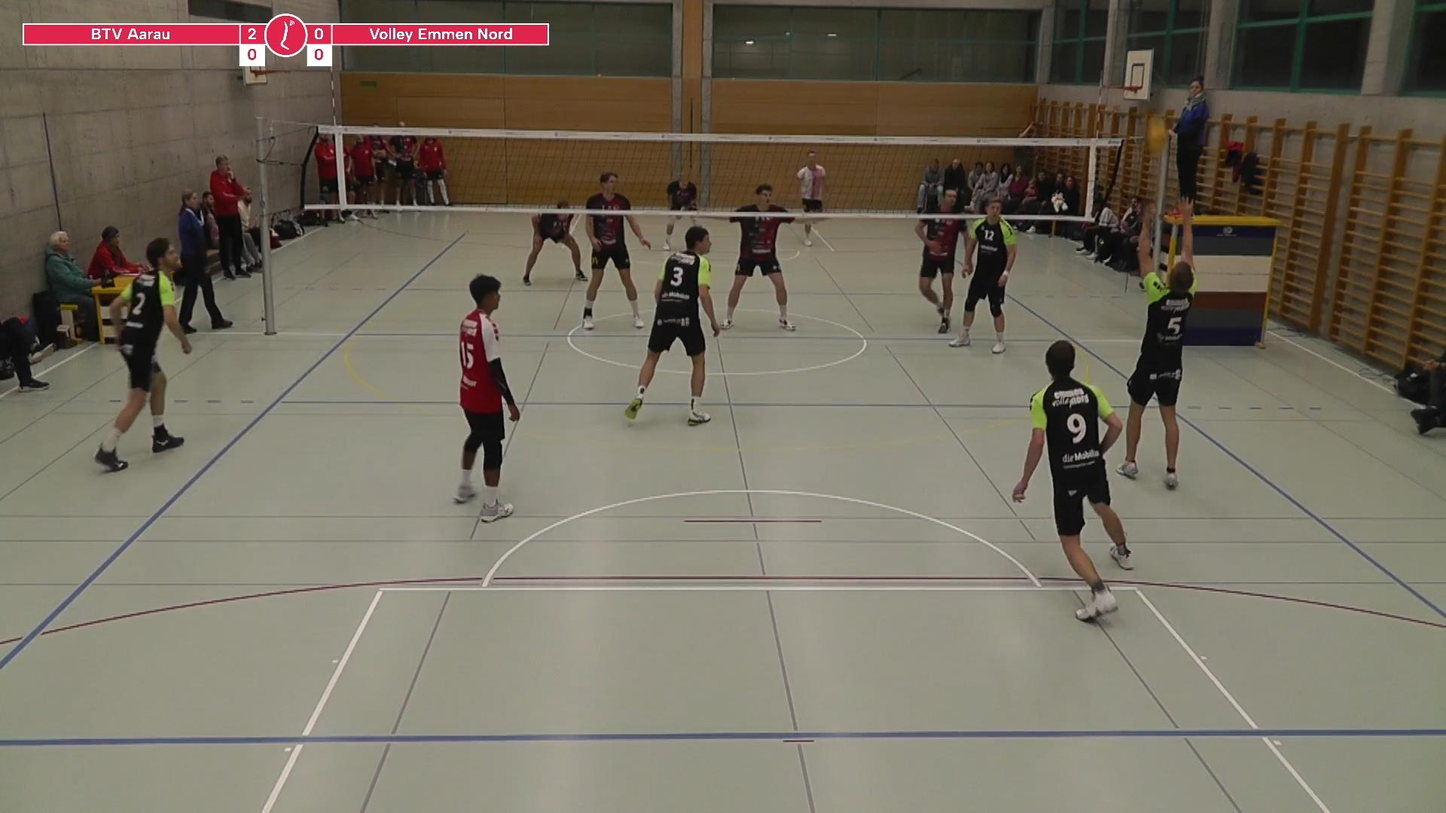Player: (1012, 340, 1130, 620), (95, 238, 191, 471), (624, 226, 720, 425), (455, 275, 520, 522), (582, 172, 651, 330), (722, 185, 795, 330), (950, 199, 1017, 353), (915, 190, 965, 333), (523, 214, 587, 285), (796, 152, 825, 215), (666, 172, 696, 210)
Receive: (1120, 193, 1204, 493)
ball: (1143, 112, 1171, 157)
